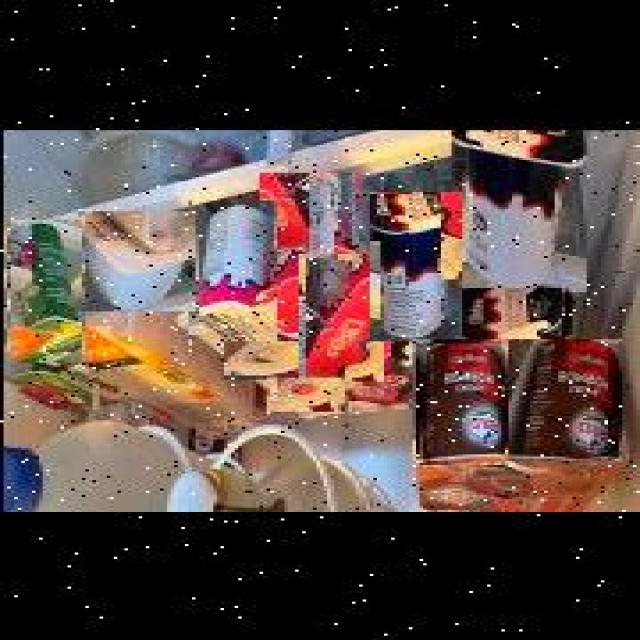yogurt: (448, 128, 583, 290), (260, 170, 356, 330), (498, 337, 618, 459), (370, 190, 462, 339), (188, 198, 278, 344), (78, 209, 196, 309), (412, 337, 505, 463), (300, 252, 386, 380), (7, 218, 82, 360), (462, 285, 566, 336), (226, 339, 318, 378), (18, 369, 96, 408), (266, 376, 348, 410), (334, 372, 406, 398)
